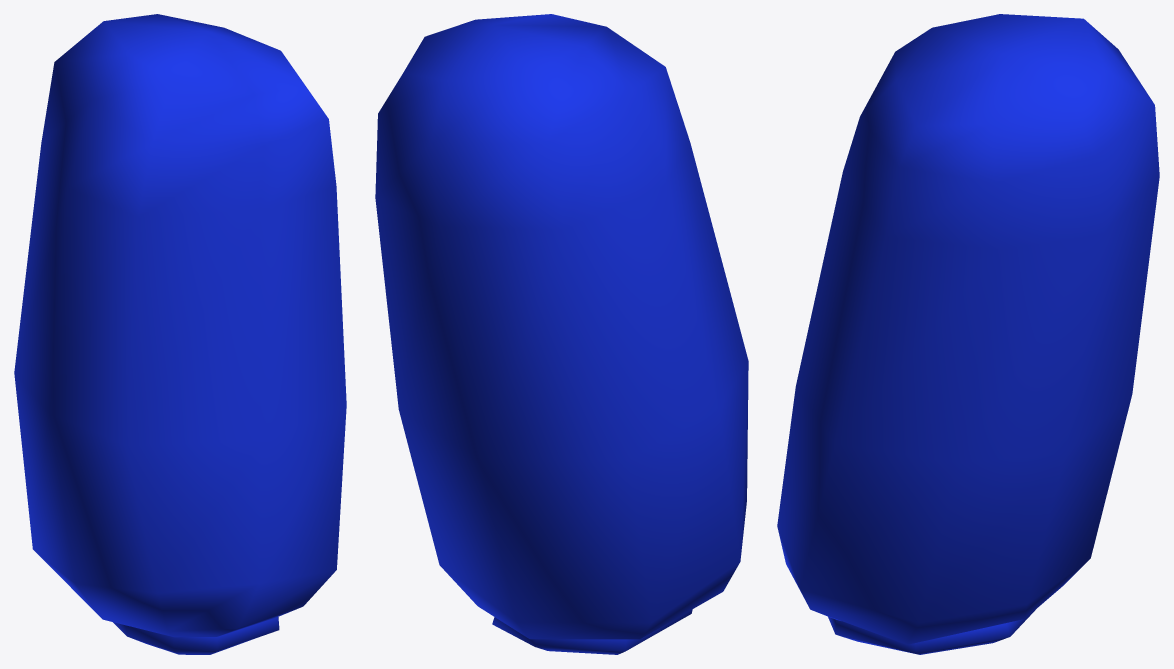
File: Turtleneck rightlower.fbx
The picture shows the model from 3 angles, left to right: view 1: azimuth 30°, elevation 25°; view 2: azimuth 150°, elevation 25°; view 3: azimuth 270°, elevation 25°; orthographic projection. The views are drawn at different scales.
Visible parts, largest first — view 1: LeftLowerLongSleeve.001; view 2: LeftLowerLongSleeve.001; view 3: LeftLowerLongSleeve.001.
Boxes of the visible parts, x1,y1,x2,y2 form: LeftLowerLongSleeve.001: (14,14,346,654); LeftLowerLongSleeve.001: (375,14,748,654); LeftLowerLongSleeve.001: (777,14,1159,654).
Bounding box in the file's own units: 23.32 × 45.41 × 26.38.
